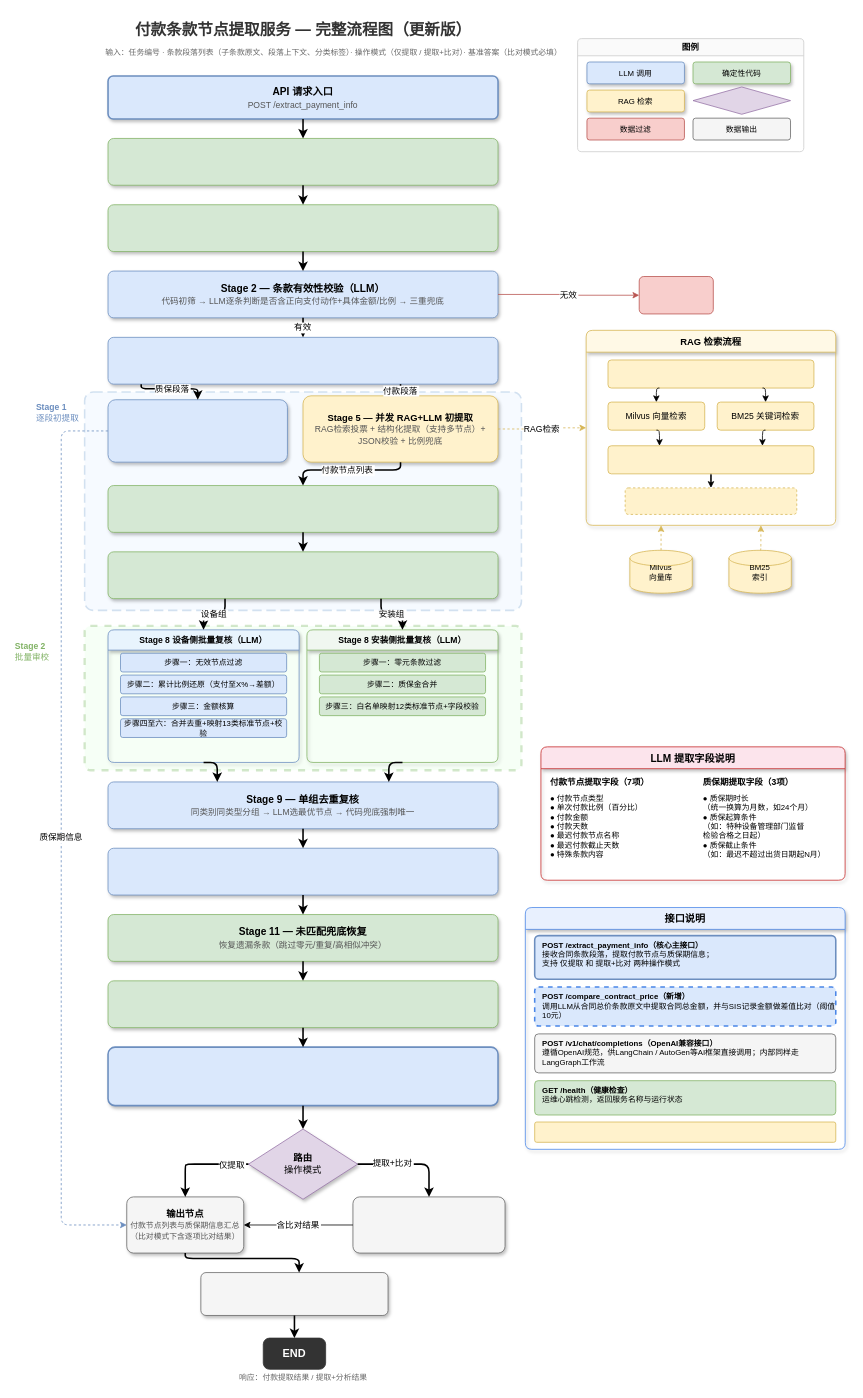
Image size: 863x1398. Some labels were removed from this diagram. Each missing label, with the centre of its shape:
Stage 0 — 初始化与段落分类 按分类标签划分：付款条款（设备/安装/混签）与质保条款: point (303, 163)
Stage 1 — 预过滤 关键词过滤 · 协商被拒过滤 · 表格/碎片/备注行过滤: point (303, 229)
Stage 10 — 结果验证与回填 汇总回溯初提取结果 + 安装白名单兜底 + 金额幻觉过滤: point (303, 872)
Stage 12 — 算术校核与清理 百分百比例推断 + 零金额清理 + 空节点清理: point (303, 1005)
Stage 3 — 混签归属路由（LLM） LLM分类：设备款 / 安装款 / 混签；混签条款展开双副本分别处理: point (303, 361)
Stage 4 — 质保信息提取（并行） LLM提取：质保期时长、质保起算条件、质保截止条件: point (198, 432)
Stage 6 — 严格去重 同类型同金额/包含关系/高相似去重，保留证据更强条款: point (303, 510)
Stage 7 — DSU 上下文合并 按类别分组 + 并查集合并 + 构建条款文本映射表: point (303, 576)
✗ 无效条款 剔除: point (675, 295)
付款时效提取（新增） LLM提取：付款天数、最迟付款节点名称、最迟付款截止天数；仅原文含「最迟」的条款才激活最迟相关字段: point (303, 1077)
判断 / 路由: point (741, 100)
向量化（Embedding API）: point (710, 373)
对比分析节点 提取结果与基准数据逐项比对 输出：准确率、精确率、召回率、F1分数: point (429, 1226)
服务框架：FastAPI + LangGraph 工作流引擎: point (685, 1131)
聚合节点 汇总付款信息，生成最终结构化输出与响应消息: point (295, 1295)
融合去重 + Rerank 精排: point (710, 459)
返回检索示例与投票参考: point (710, 500)
